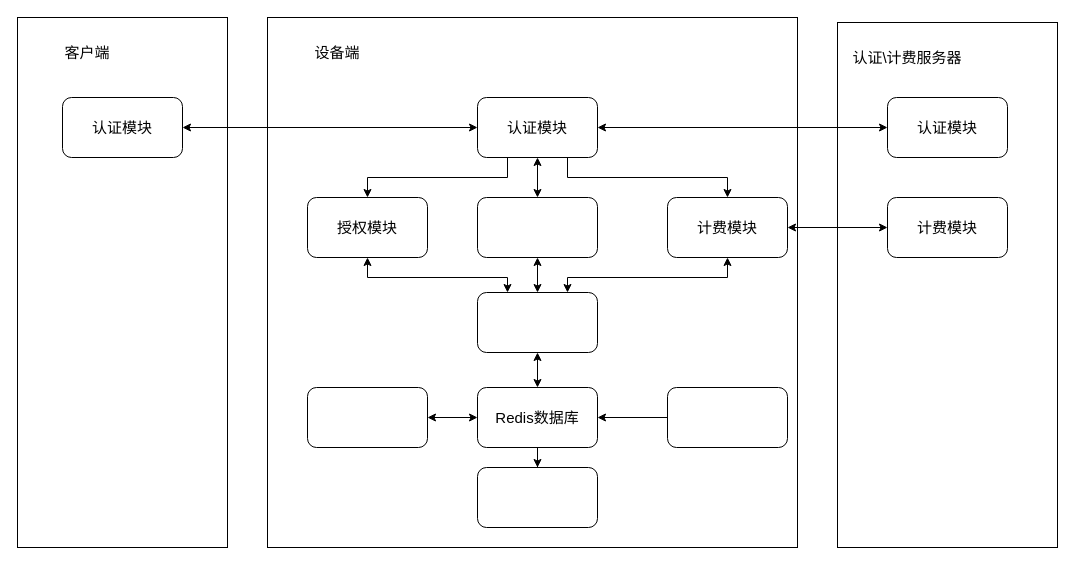
This 1075x565 diagram has some shape labels left out. Each missing label, with the centre of its shape:
"命令行模块" belongs at point (727, 417).
"数据同步模块" belongs at point (537, 322).
"数据处理模块" belongs at point (367, 417).
"数据恢复模块" belongs at point (537, 227).
"硬件下发模块" belongs at point (537, 497).
